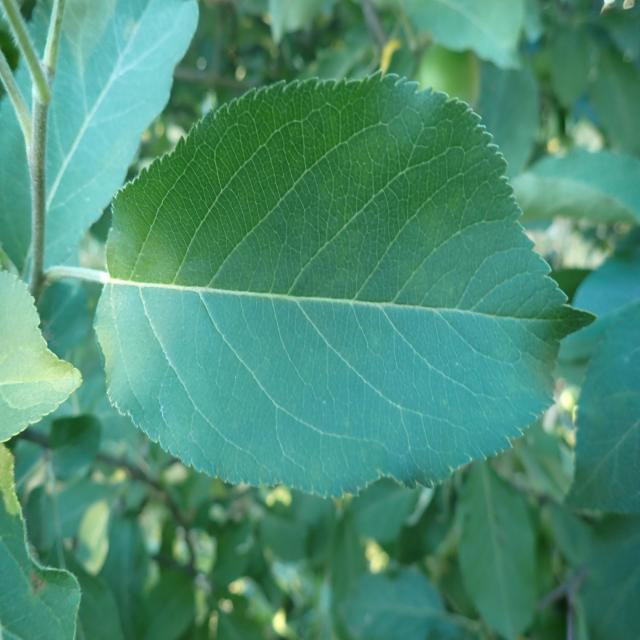healthy: (93, 67, 598, 501), (1, 1, 200, 280), (562, 298, 640, 516), (0, 441, 83, 640), (0, 269, 84, 442)
